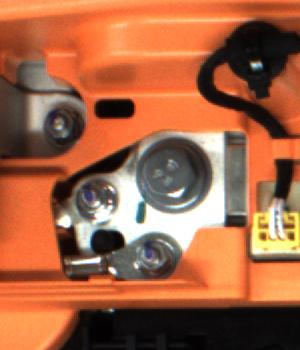nut_b: (129, 133, 214, 216)
screw_s: (136, 238, 179, 280), (73, 179, 111, 219), (42, 109, 74, 144)
